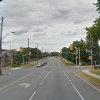Car: (35, 56, 47, 69)
